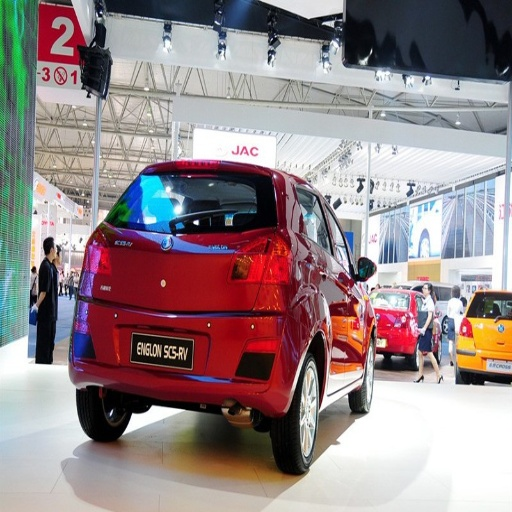back_bumper: (76, 301, 302, 411)
back_right_door: (297, 185, 347, 353)
trunk: (92, 227, 265, 361)
